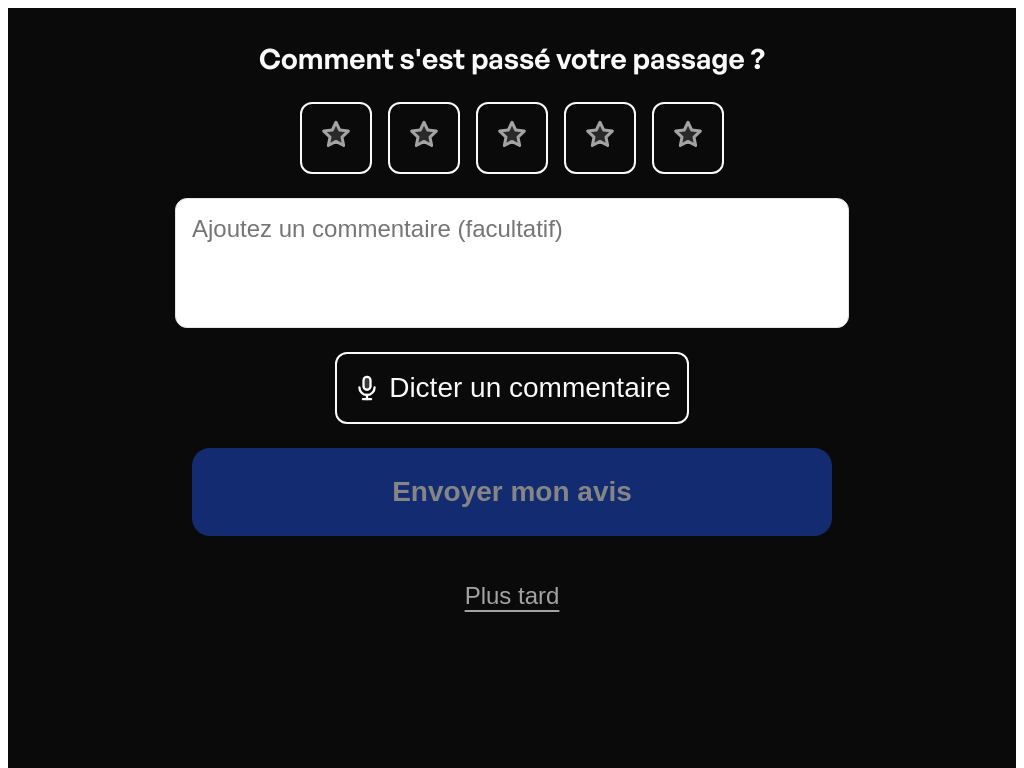
Test case: KIOSK-009: FeedbackScreen › KIOSK-009: 409 FEEDBACK_ALREADY_SUBMITTED → message remerciement, zéro erreur visible
Click the 3rd radio button with test id "feedback-star" at x=512, y=138, box [476,102,548,174]
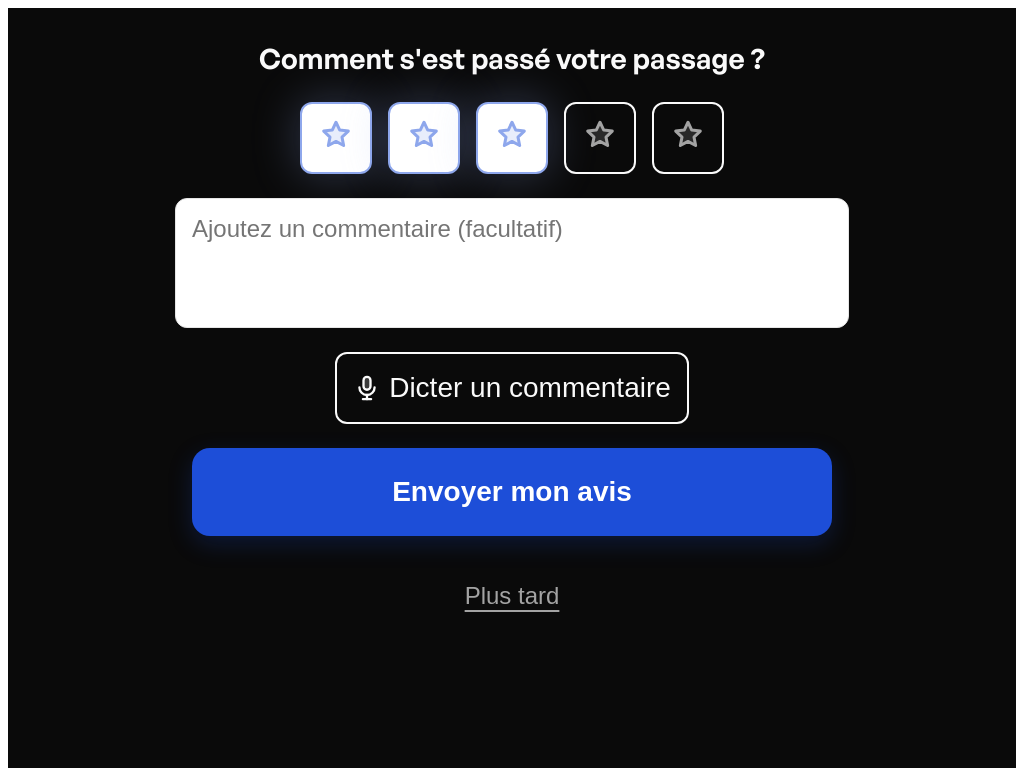
Click the button with test id "feedback-submit" at x=512, y=492, box [192,448,832,536]
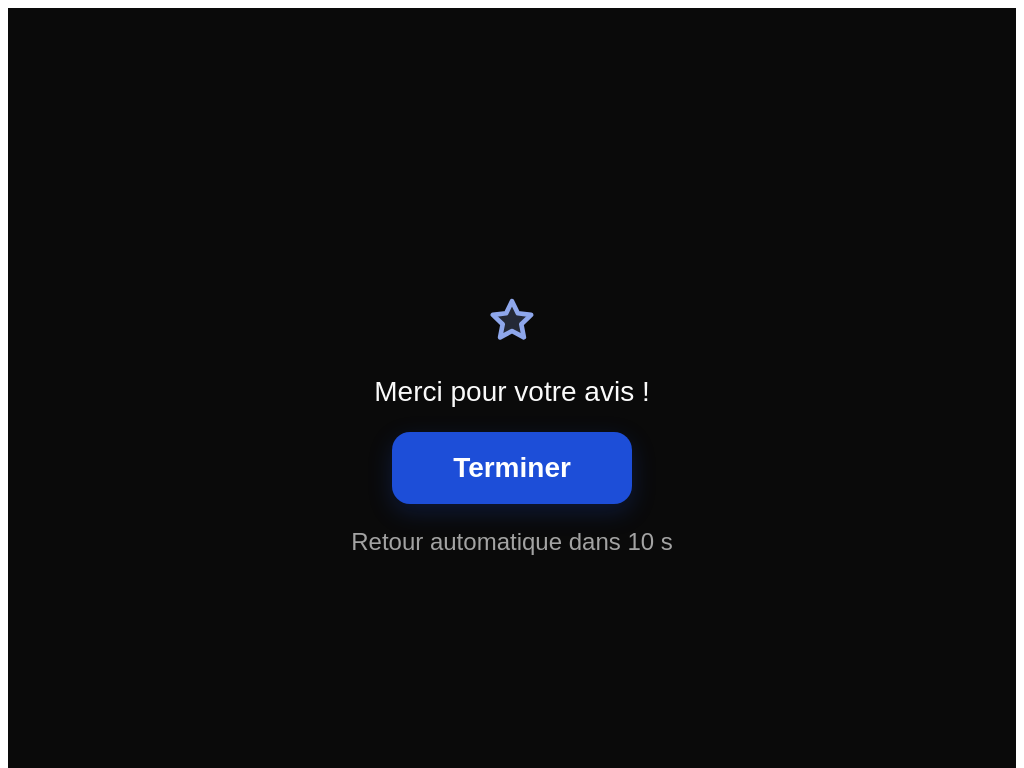
Result: the text "Merci pour votre avis !" is shown at [374,376,650,408]
